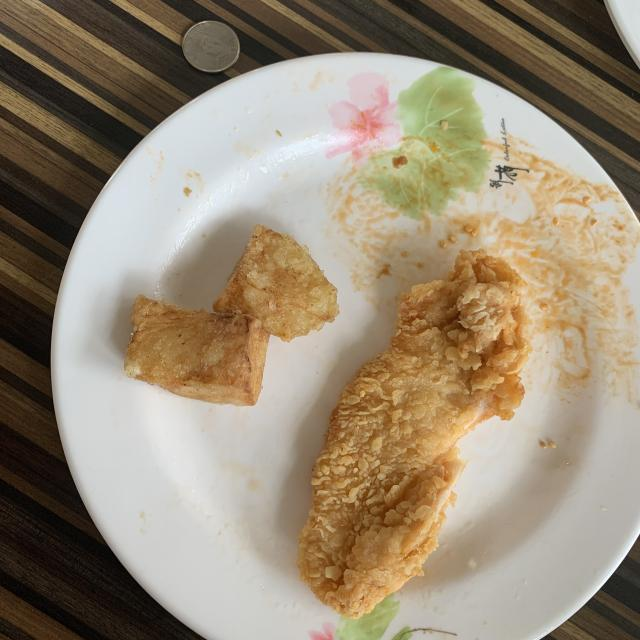coin: (182, 21, 240, 72)
fried chicken cutlet: (298, 250, 530, 619)
fried potato: (124, 225, 339, 406)
